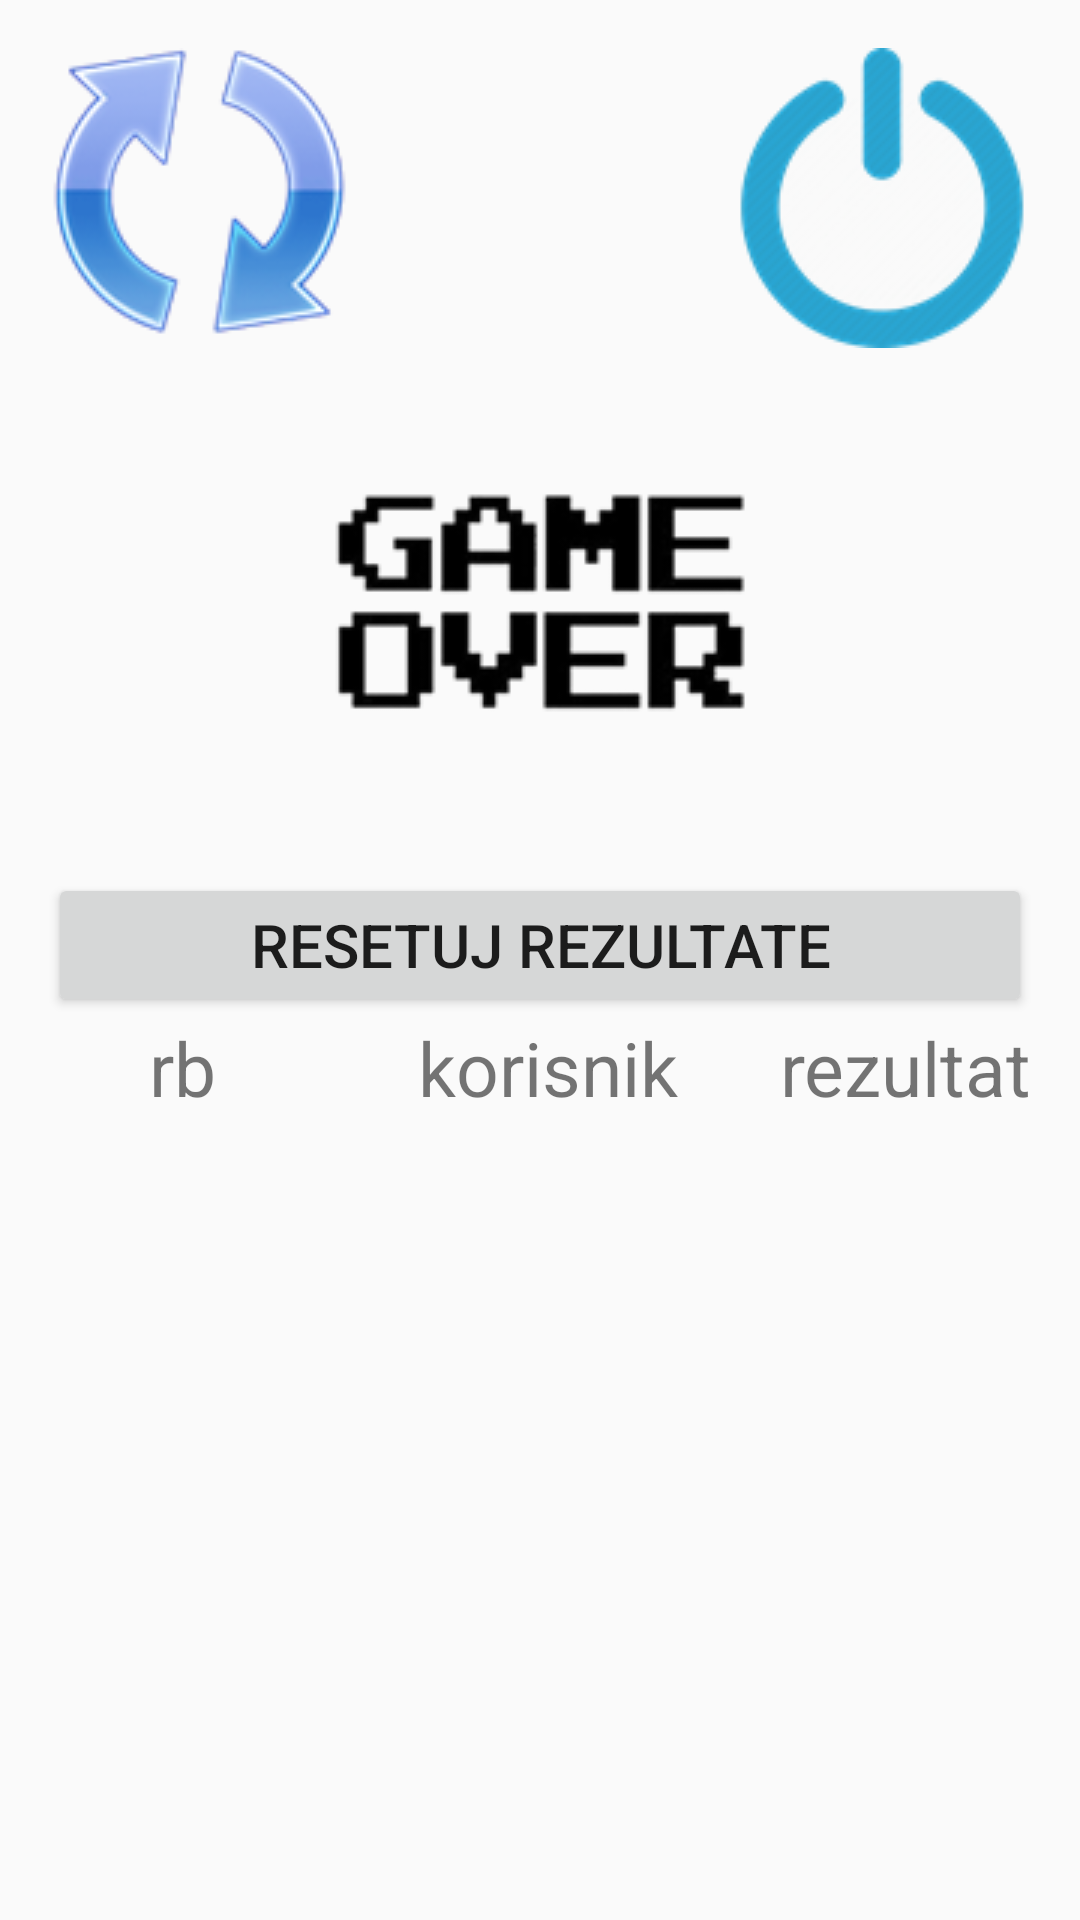

Named icons in this screenshot (1080 x 1920) and their centers, (x,y):
exit: (882,198)
restart: (199,192)
